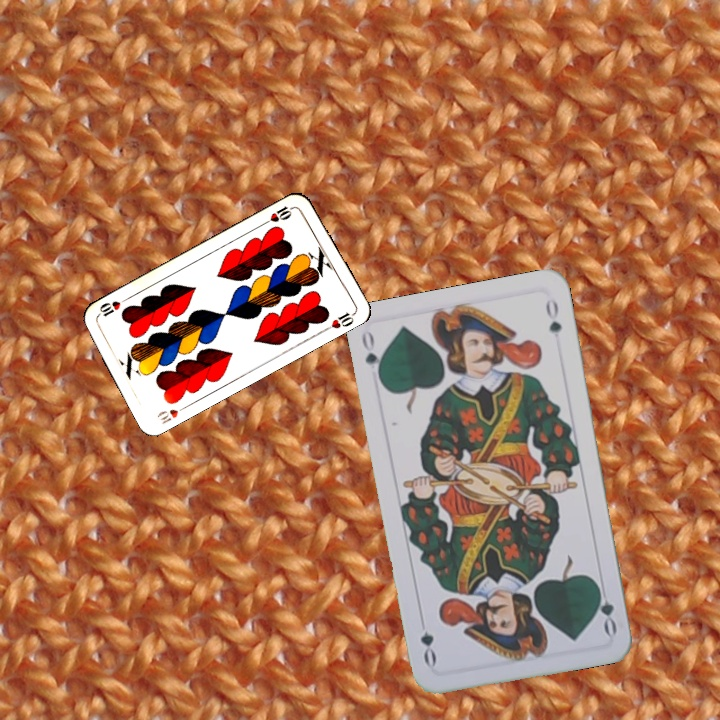GO: (591, 579, 620, 638), (357, 327, 385, 385)
H10: (153, 401, 191, 427), (260, 202, 297, 227)
